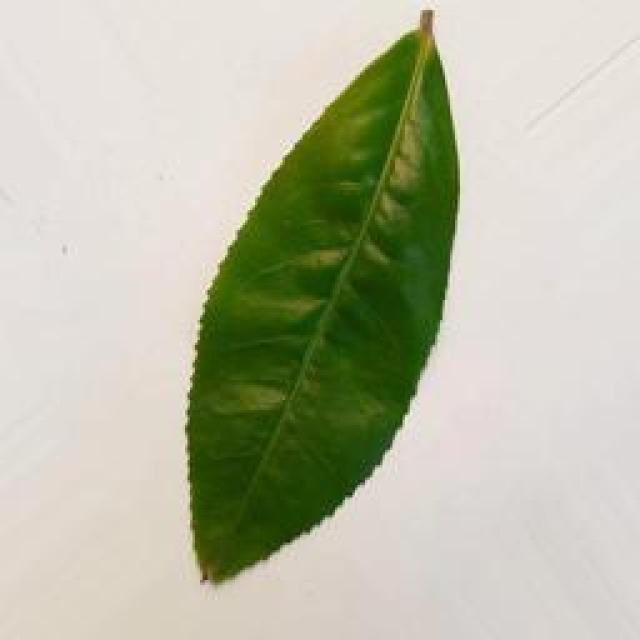Healthy: (176, 8, 474, 592)
